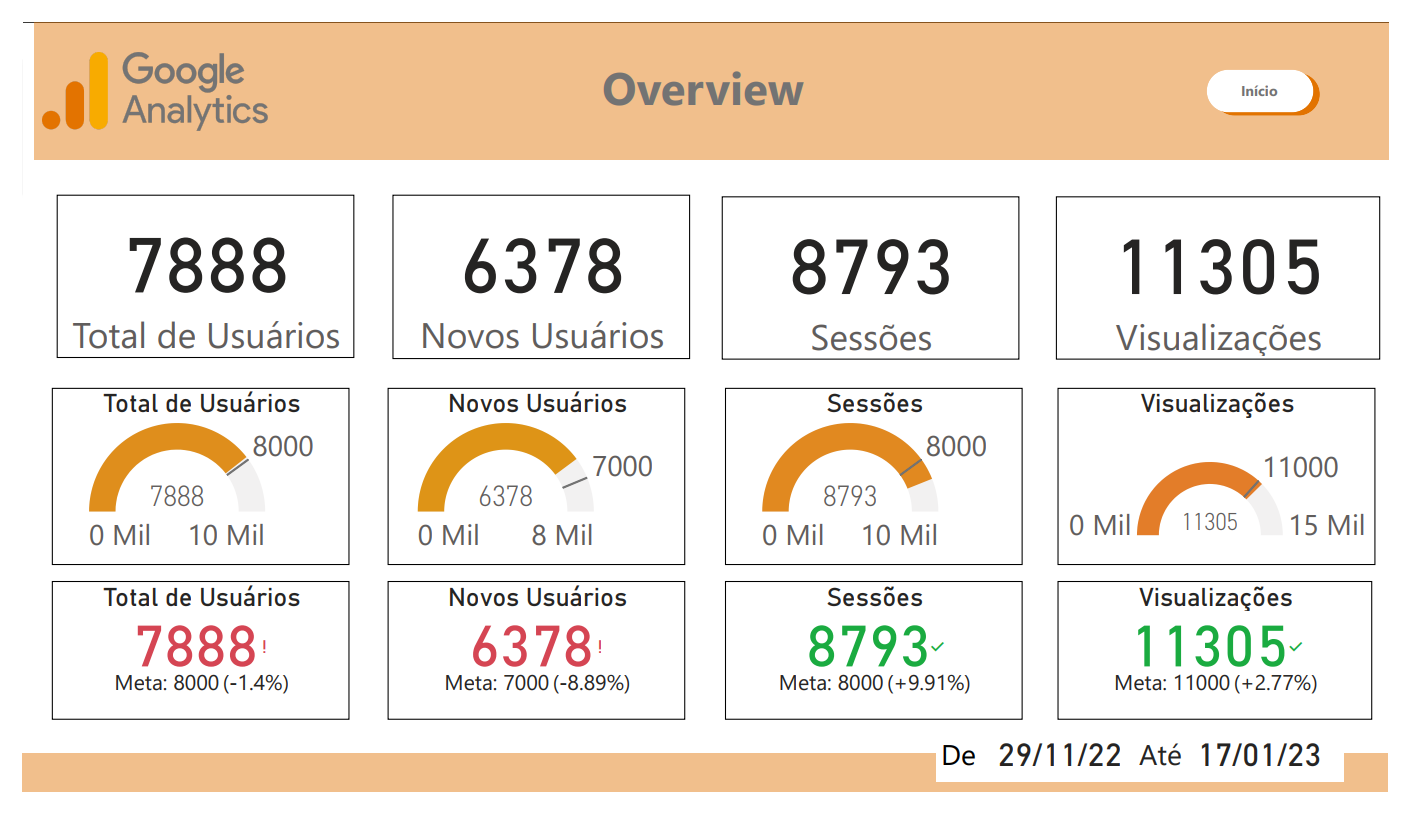

The dashboard page shown, as its layout file describes it:
{"tool":"powerbi","page":{"name":"Overview","canvas":[1280,720],"ordinal":1},"visuals":[{"type":"shape","box":[10.3,0,1269.7,129.3],"z":0},{"type":"shape","box":[0,683.3,1280,36.7],"z":2000},{"type":"card","fields":{"Values":["Sum(website_overview.ga_users)"]},"box":[31.2,160.8,279.4,152.6],"z":3000},{"type":"card","fields":{"Values":["Sum(website_overview.ga_newusers)"]},"box":[346.6,160.8,279.4,154.1],"z":4000},{"type":"card","fields":{"Values":["Sum(website_overview.ga_sessions)"]},"box":[654.8,162.2,279.4,152.6],"z":5000},{"type":"card","fields":{"Values":["Sum(website_overview.ga_pageviews)"]},"box":[968.7,162.2,303.8,152.6],"z":6000},{"type":"card","fields":{"Values":["Max(website_overview.ga_date)"]},"box":[1081.4,655.6,157,56.2],"z":7000},{"type":"card","fields":{"Values":["Min(website_overview.ga_date)"]},"box":[894.2,655.6,157,56.2],"z":8000},{"type":"textbox","box":[855.9,662,54.3,50.4],"z":9000},{"type":"textbox","box":[1041.1,661.4,60.5,50.4],"z":10000},{"type":"gauge","fields":{"Y":["Sum(website_overview.ga_users)"]},"box":[27.4,342.7,279.4,165.6],"z":11000},{"type":"gauge","fields":{"Y":["Sum(website_overview.ga_newusers)"]},"box":[342.7,342.7,279.4,165.6],"z":12000},{"type":"gauge","fields":{"Y":["Sum(website_overview.ga_sessions)"]},"box":[658.1,342.7,279.4,165.6],"z":13000},{"type":"gauge","fields":{"Y":["Sum(website_overview.ga_pageviews)"]},"box":[970.6,342.7,298.1,165.6],"z":14000},{"type":"kpi","title":"Total de Usuários","fields":{"Indicator":["Sum(website_overview.ga_users)"],"TrendLine":["website_overview.view_id"],"Goal":["Max(website_overview.mt_users)"]},"box":[27.4,522.7,279.4,129.6],"z":15000},{"type":"kpi","title":"Novos Usuários","fields":{"Indicator":["Sum(website_overview.ga_newusers)"],"TrendLine":["website_overview.view_id"],"Goal":["Max(website_overview.mt_newusers)"]},"box":[342.7,522.7,279.4,129.6],"z":16000},{"type":"kpi","title":"Sessões","fields":{"Indicator":["Sum(website_overview.ga_sessions)"],"TrendLine":["website_overview.view_id"],"Goal":["Max(website_overview.mt_sessions)"]},"box":[658.1,522.7,279.4,129.6],"z":17000},{"type":"kpi","title":"Visualizações","fields":{"Indicator":["Sum(website_overview.ga_pageviews)"],"TrendLine":["website_overview.view_id"],"Goal":["Max(website_overview.mt_pageviews)"]},"box":[970.6,522.7,295.2,129.6],"z":18000},{"type":"image","box":[14.2,0,221.1,129.3],"z":19000},{"type":"textbox","box":[534,25.9,210.7,76.3],"z":20000},{"type":"actionButton","box":[1115.8,47.8,99.6,40.1],"z":21000},{"type":"actionButton","box":[1109.3,44,99.6,40.1],"z":22000}]}

Visuals, with their boxes in screenshot pixels (x1, y1, x2, y2), scaled from the page's 1280x720 canvas onto the 1411x813 screenshot:
shape: {"left": 11, "top": 0, "right": 1410, "bottom": 146}
shape: {"left": 0, "top": 772, "right": 1410, "bottom": 812}
card - Sum(website_overview.ga_users): {"left": 34, "top": 182, "right": 342, "bottom": 354}
card - Sum(website_overview.ga_newusers): {"left": 382, "top": 182, "right": 690, "bottom": 356}
card - Sum(website_overview.ga_sessions): {"left": 722, "top": 183, "right": 1030, "bottom": 355}
card - Sum(website_overview.ga_pageviews): {"left": 1068, "top": 183, "right": 1403, "bottom": 355}
card - Max(website_overview.ga_date): {"left": 1192, "top": 740, "right": 1365, "bottom": 804}
card - Min(website_overview.ga_date): {"left": 986, "top": 740, "right": 1159, "bottom": 804}
textbox: {"left": 943, "top": 748, "right": 1003, "bottom": 804}
textbox: {"left": 1148, "top": 747, "right": 1214, "bottom": 804}
gauge - Sum(website_overview.ga_users): {"left": 30, "top": 387, "right": 338, "bottom": 574}
gauge - Sum(website_overview.ga_newusers): {"left": 378, "top": 387, "right": 686, "bottom": 574}
gauge - Sum(website_overview.ga_sessions): {"left": 725, "top": 387, "right": 1033, "bottom": 574}
gauge - Sum(website_overview.ga_pageviews): {"left": 1070, "top": 387, "right": 1399, "bottom": 574}
"Total de Usuários" kpi: {"left": 30, "top": 590, "right": 338, "bottom": 737}
"Novos Usuários" kpi: {"left": 378, "top": 590, "right": 686, "bottom": 737}
"Sessões" kpi: {"left": 725, "top": 590, "right": 1033, "bottom": 737}
"Visualizações" kpi: {"left": 1070, "top": 590, "right": 1395, "bottom": 737}
image: {"left": 16, "top": 0, "right": 259, "bottom": 146}
textbox: {"left": 589, "top": 29, "right": 821, "bottom": 115}
actionButton: {"left": 1230, "top": 54, "right": 1340, "bottom": 99}
actionButton: {"left": 1223, "top": 50, "right": 1333, "bottom": 95}
